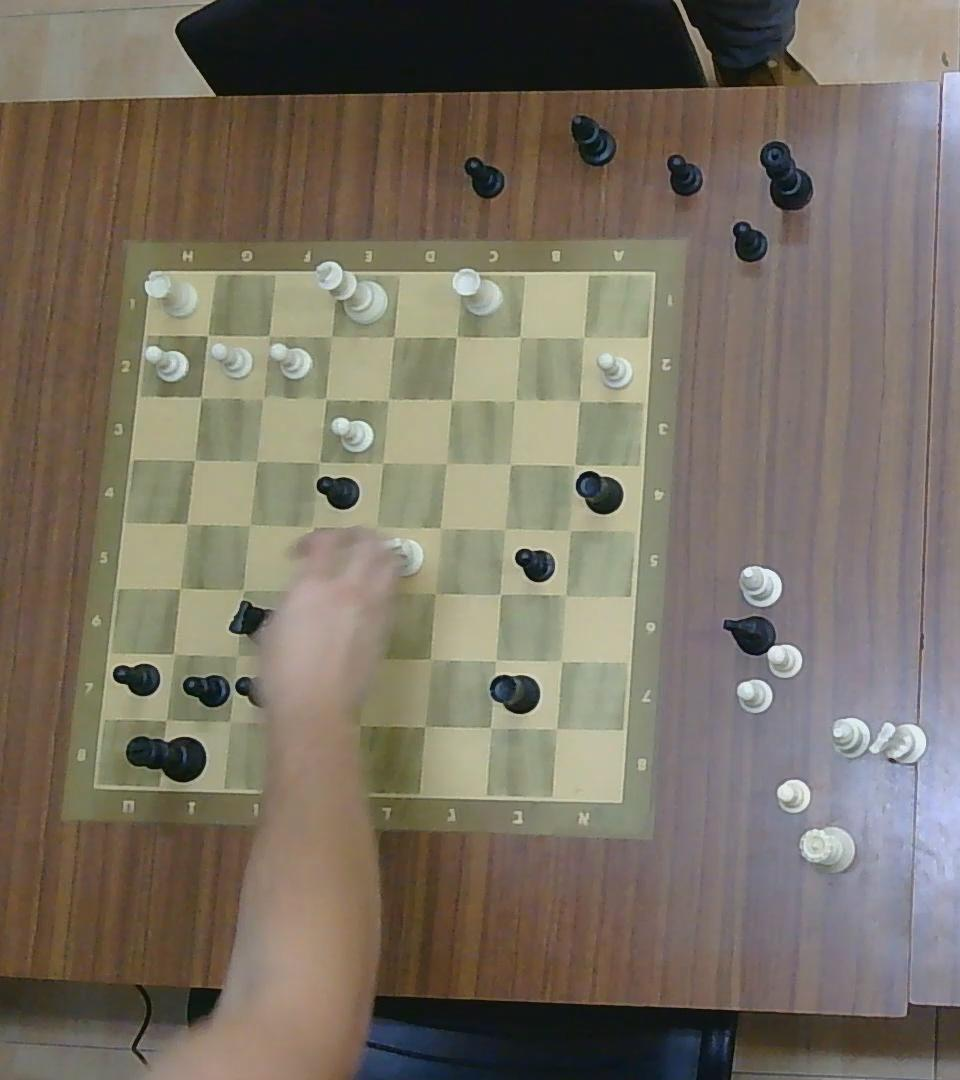xcorner: (149, 706, 178, 732), (218, 705, 244, 732), (290, 708, 314, 736), (427, 514, 452, 540), (313, 386, 340, 410), (493, 516, 517, 542), (379, 326, 406, 347), (374, 452, 397, 476), (176, 510, 199, 534), (244, 448, 269, 470), (497, 452, 521, 474), (558, 519, 582, 541), (162, 640, 184, 664), (191, 382, 212, 407), (500, 388, 523, 410), (544, 716, 567, 738), (376, 388, 398, 410), (232, 576, 254, 598), (483, 646, 506, 667), (561, 453, 582, 475), (167, 576, 188, 598), (227, 643, 248, 665), (257, 326, 280, 346), (568, 326, 592, 345), (489, 583, 510, 604), (422, 584, 444, 604), (412, 716, 435, 735), (304, 514, 322, 538), (418, 646, 438, 667), (551, 649, 571, 670), (507, 327, 531, 344), (432, 452, 452, 472), (480, 716, 499, 737), (363, 518, 385, 536), (195, 326, 215, 345), (319, 326, 339, 345), (183, 449, 203, 467), (236, 515, 256, 533), (257, 386, 274, 407), (555, 586, 576, 603), (569, 392, 588, 410), (351, 586, 369, 605), (444, 328, 464, 345), (443, 388, 460, 408), (310, 454, 330, 471), (294, 652, 314, 669), (353, 651, 371, 669), (353, 718, 371, 736), (298, 584, 315, 602)
